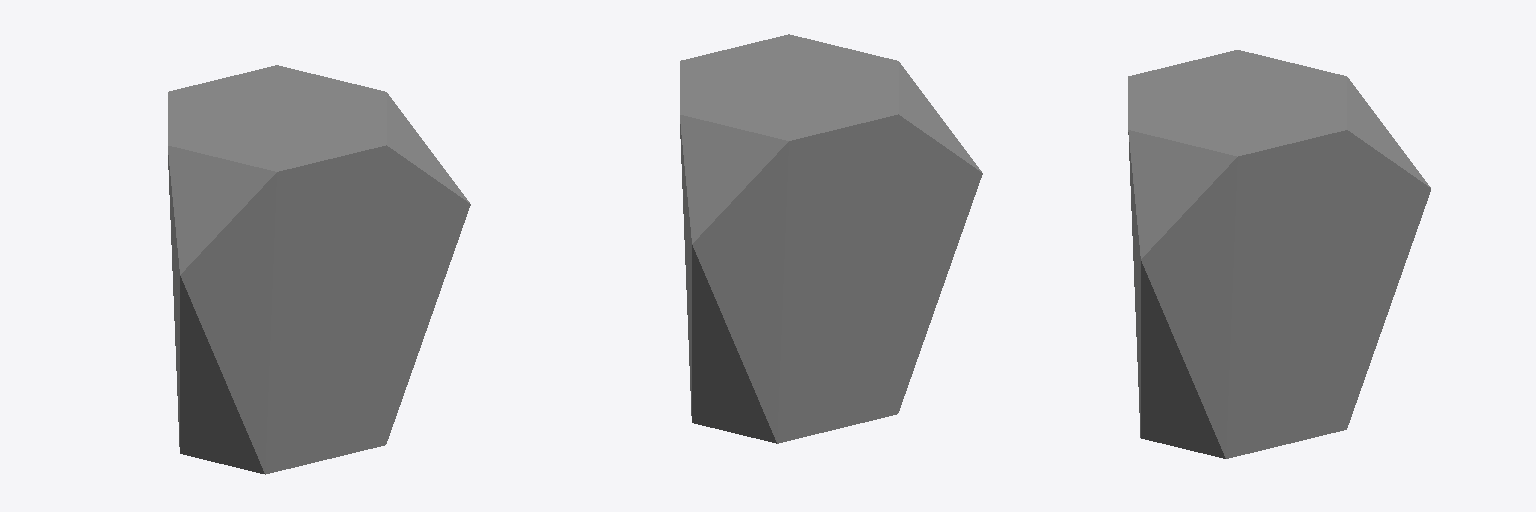
The model's file is top.obj.
The picture shows the model from 3 angles: view 1: azimuth 30°, elevation 25°; view 2: azimuth 150°, elevation 25°; view 3: azimuth 270°, elevation 25°; orthographic projection.
Visible parts, largest first — view 1: Cylinder02; view 2: Cylinder02; view 3: Cylinder02.
Part boxes in pixels (x1,y1,x2,y2): Cylinder02: (168,65,470,474); Cylinder02: (680,34,982,443); Cylinder02: (1128,50,1430,458).
Size of the model in its own units: 7.96 by 8 by 7.2.